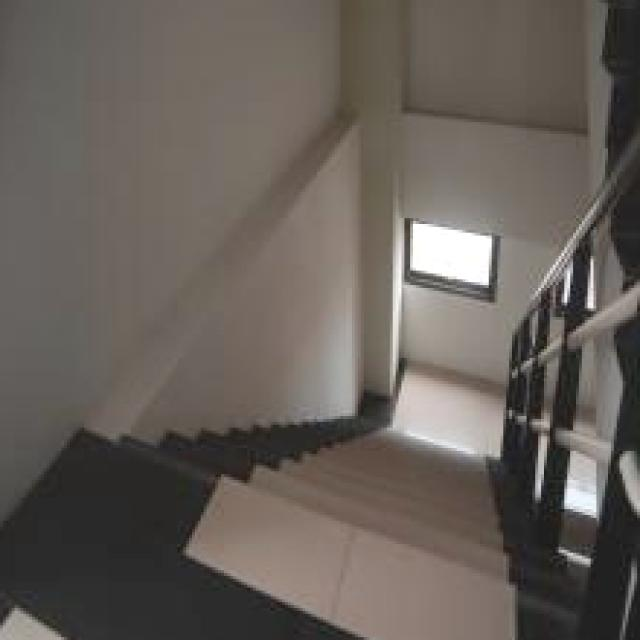downstair: (211, 438, 505, 592)
